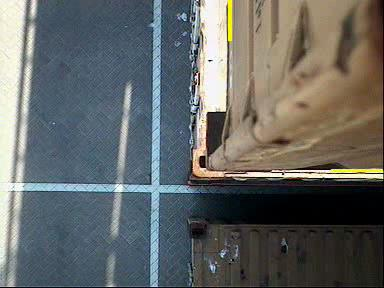groundmarker_2: (110, 52, 211, 119)
